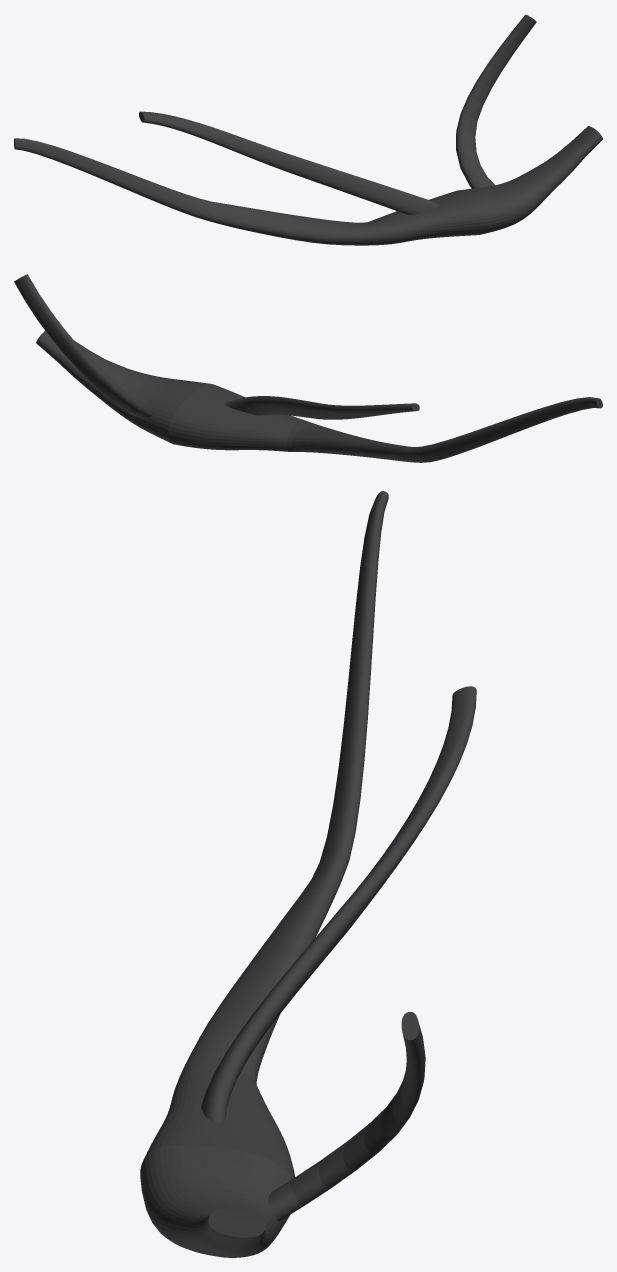
The model's file is N_9_glossopharnygeal_otic_ganglion.glb.
3 renders of one model, top to bottom at view 1: azimuth 30°, elevation 25°; view 2: azimuth 150°, elevation 25°; view 3: azimuth 270°, elevation 25°, orthographic. The views are drawn at different scales.
Parts seen in each view (by area): view 1: N_9_glossopharnygeal_otic_ganglion; view 2: N_9_glossopharnygeal_otic_ganglion; view 3: N_9_glossopharnygeal_otic_ganglion.
Part boxes in pixels (left/top/right/bottom): N_9_glossopharnygeal_otic_ganglion: left=14, top=14, right=602, bottom=245; N_9_glossopharnygeal_otic_ganglion: left=14, top=274, right=602, bottom=462; N_9_glossopharnygeal_otic_ganglion: left=140, top=491, right=476, bottom=1257.
Size of the model in its own units: 0.0256 by 0.00738 by 0.0068.
1 material, 1 textured.
